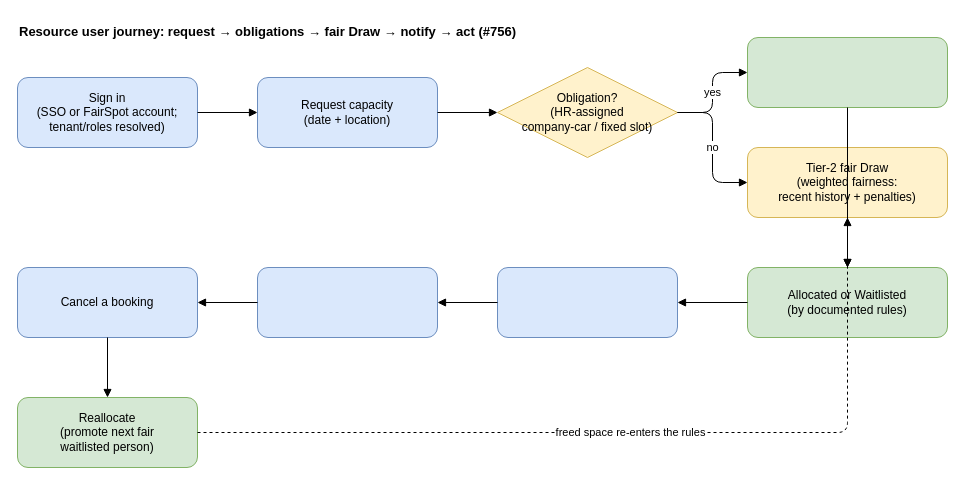
This 965x485 diagram has some shape labels left out. The centre of each missing label's shape, as x and y in pixels:
"My Bookings (view own bookings; no other users, no internals)" goes at pixel 347 302.
"Notify (in-app record; safe status + reason)" goes at pixel 587 302.
"Tier-1 fixed-slot precedence (allocated before the Draw)" goes at pixel 847 72.
